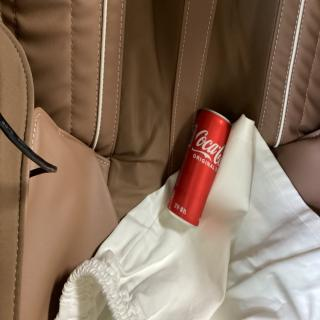cocacola: (162, 99, 237, 234)
